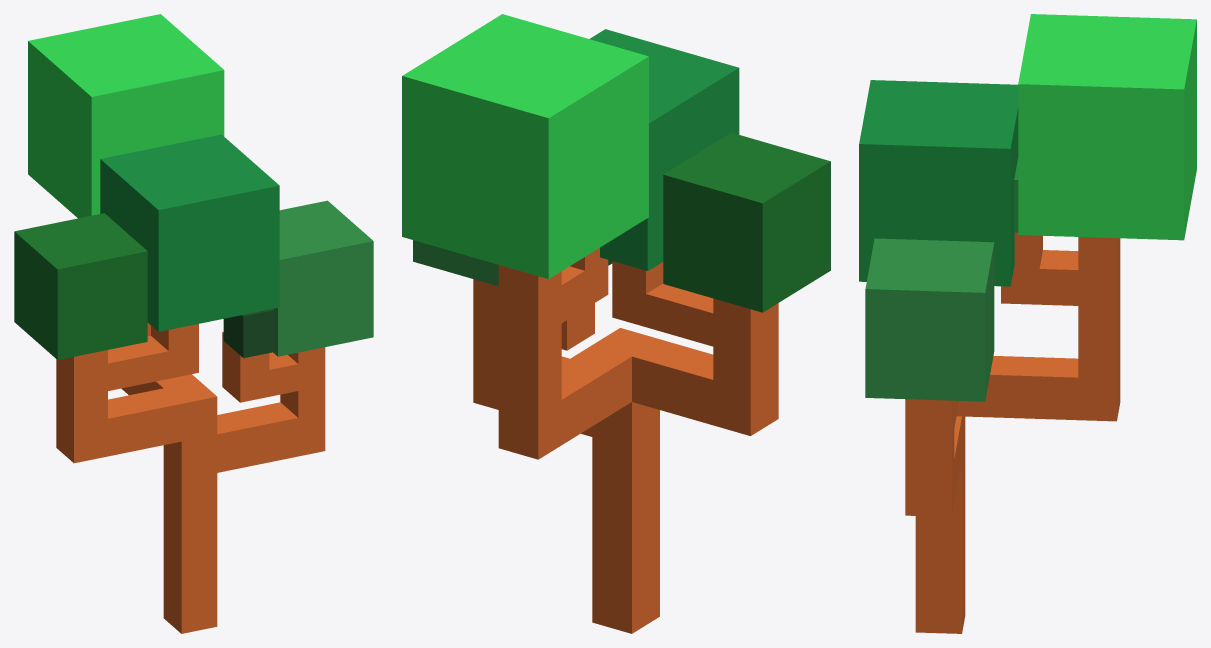
File: Arbol Low.fbx
The picture shows the model from 3 angles, left to right: view 1: azimuth 30°, elevation 25°; view 2: azimuth 150°, elevation 25°; view 3: azimuth 270°, elevation 25°; orthographic projection. The views are drawn at different scales.
Parts seen in each view (by area): view 1: Tronco, Cube.003, Cube.002, Cube.001, Cube.004, Cube.006; view 2: Tronco, Cube.003, Cube.001, Cube.002, Cube.004; view 3: Cube.003, Tronco, Cube.002, Cube.004.
Part boxes in pixels (x1,y1,x2,y2): Tronco: (56, 323, 325, 633); Cube.003: (28, 14, 224, 218); Cube.002: (100, 134, 279, 331); Cube.001: (14, 213, 147, 359); Cube.004: (273, 200, 373, 356); Cube.006: (223, 309, 274, 358); Tronco: (473, 248, 778, 633); Cube.003: (402, 14, 648, 279); Cube.001: (663, 132, 830, 312); Cube.002: (589, 29, 739, 270); Cube.004: (413, 240, 498, 286); Cube.003: (1018, 14, 1196, 240); Tronco: (905, 232, 1120, 633); Cube.002: (859, 80, 1018, 286); Cube.004: (865, 238, 994, 401).
Bounding box in the file's own units: 129 × 204 × 108.
